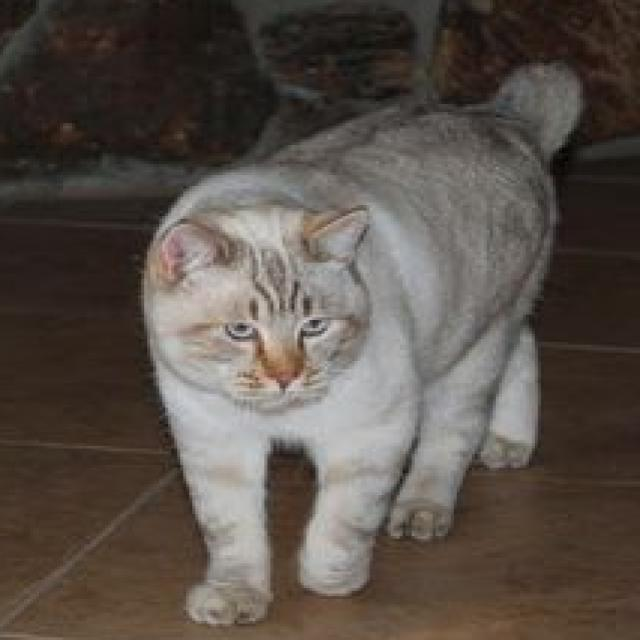American Bobtail: (133, 60, 588, 630)
